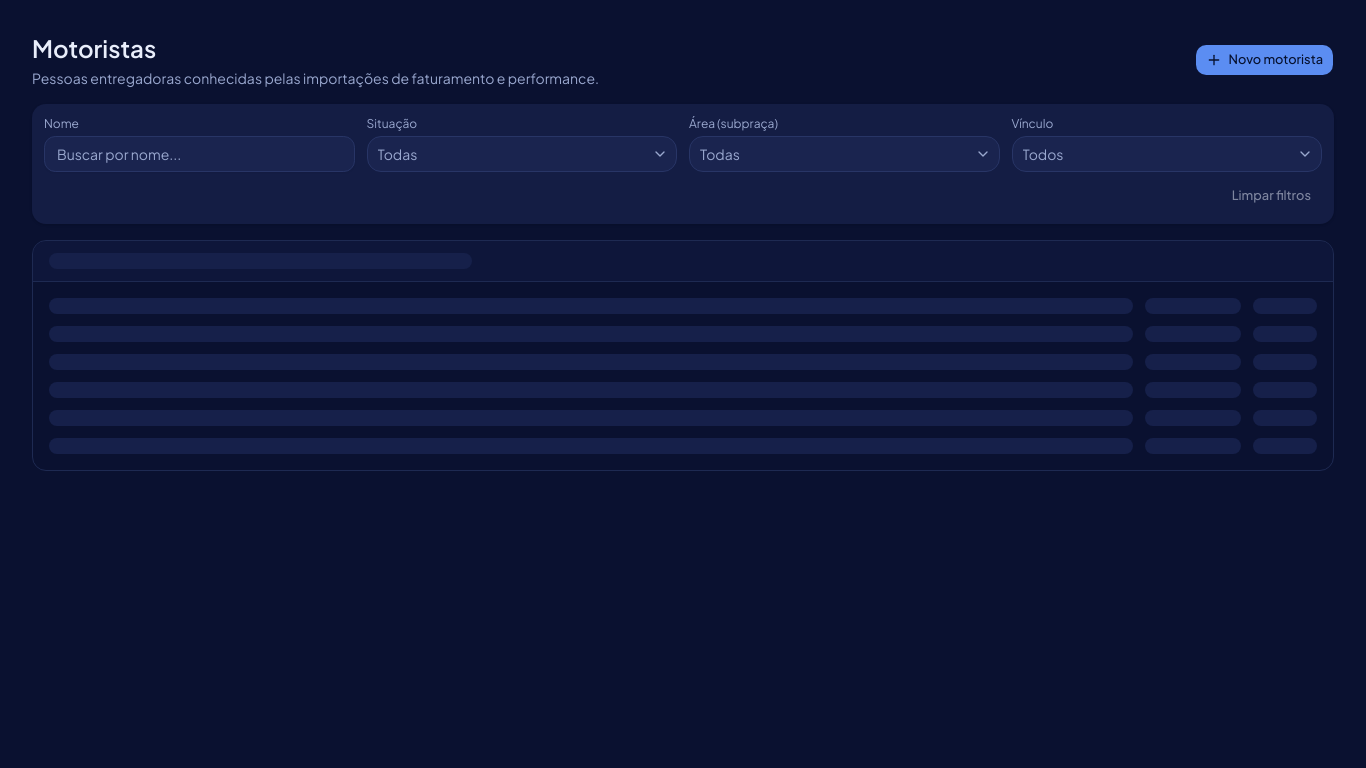
Test: MotoristasPage — CriarMotoristaDialog (FASE 4, task 4.3) › uuid em formato inválido exibe erro claro e bloqueia o submit no cliente
Click the button "Novo motorista": (1265, 60) [1196,44,1334,76]
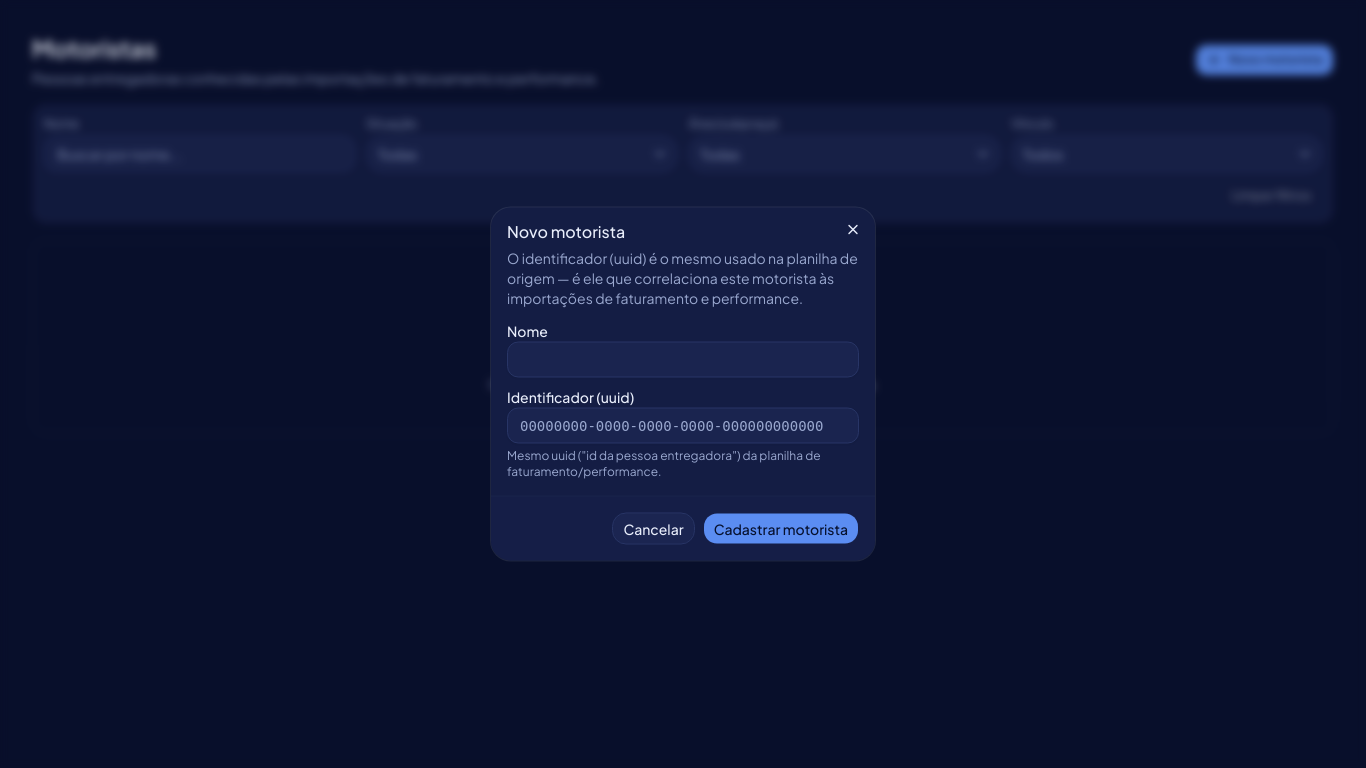
Expected: the heading "Novo motorista" is shown, [507,220,625,242]
In the field labelled "Nome": (683, 360) [507,342,859,378], type "Fulano da Silva"
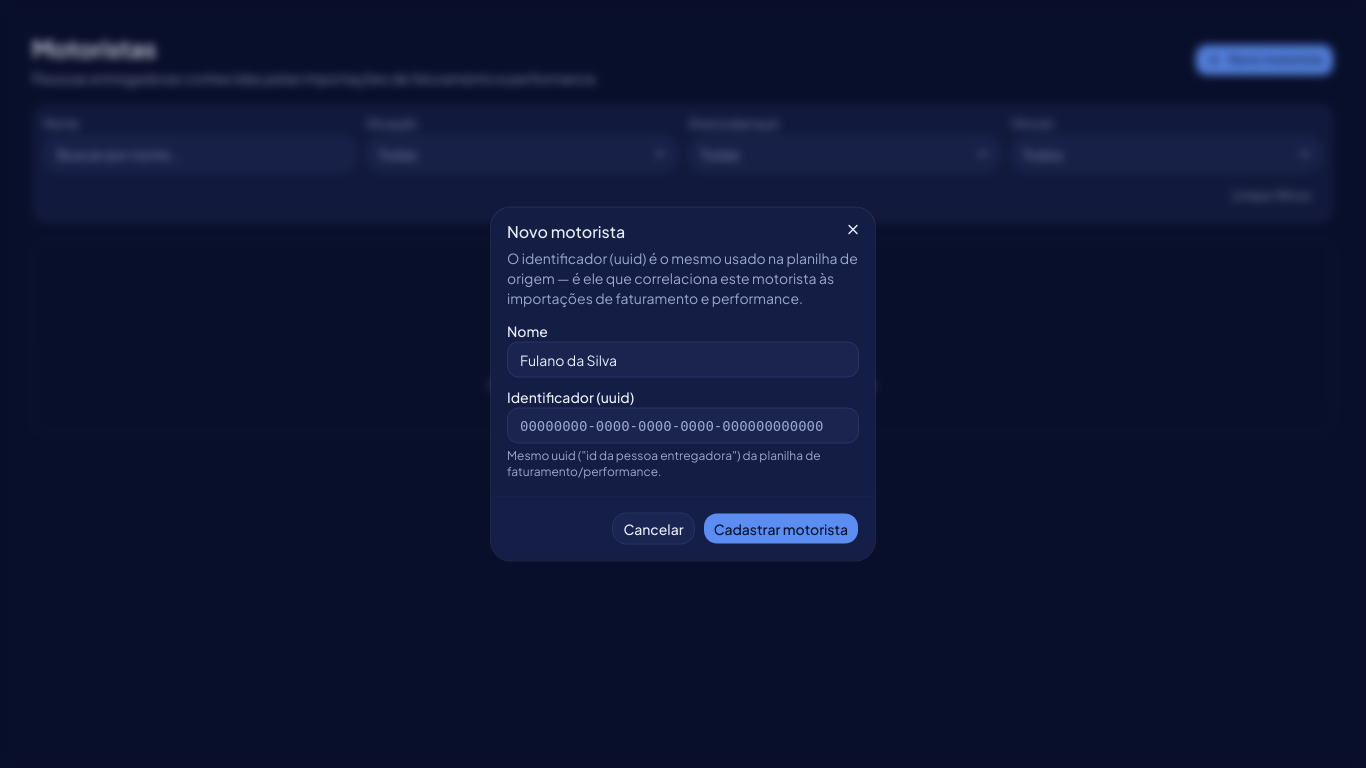
In the field labelled "Identificador (uuid)": (683, 426) [507,408,859,444], type "nao-e-um-uuid"
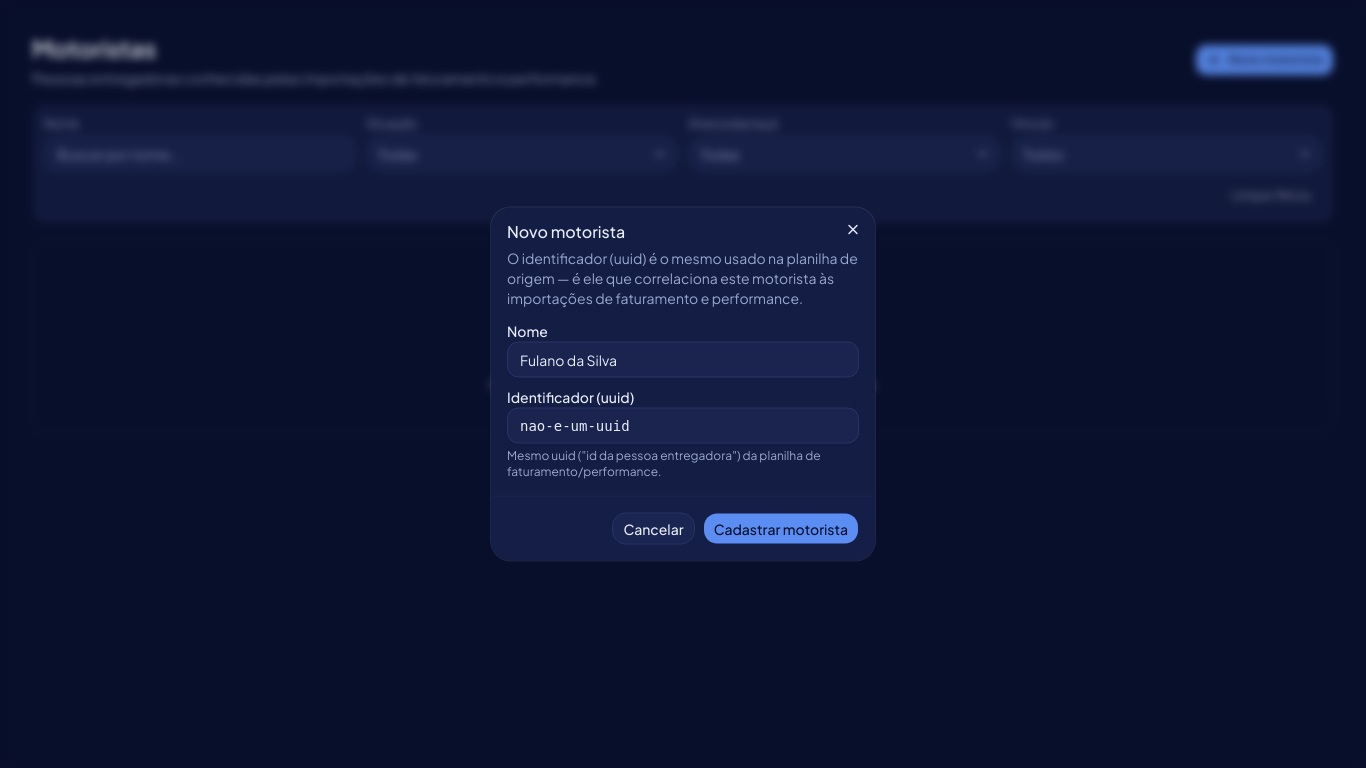
Click the button "Cadastrar motorista": (781, 528) [703,512,859,544]
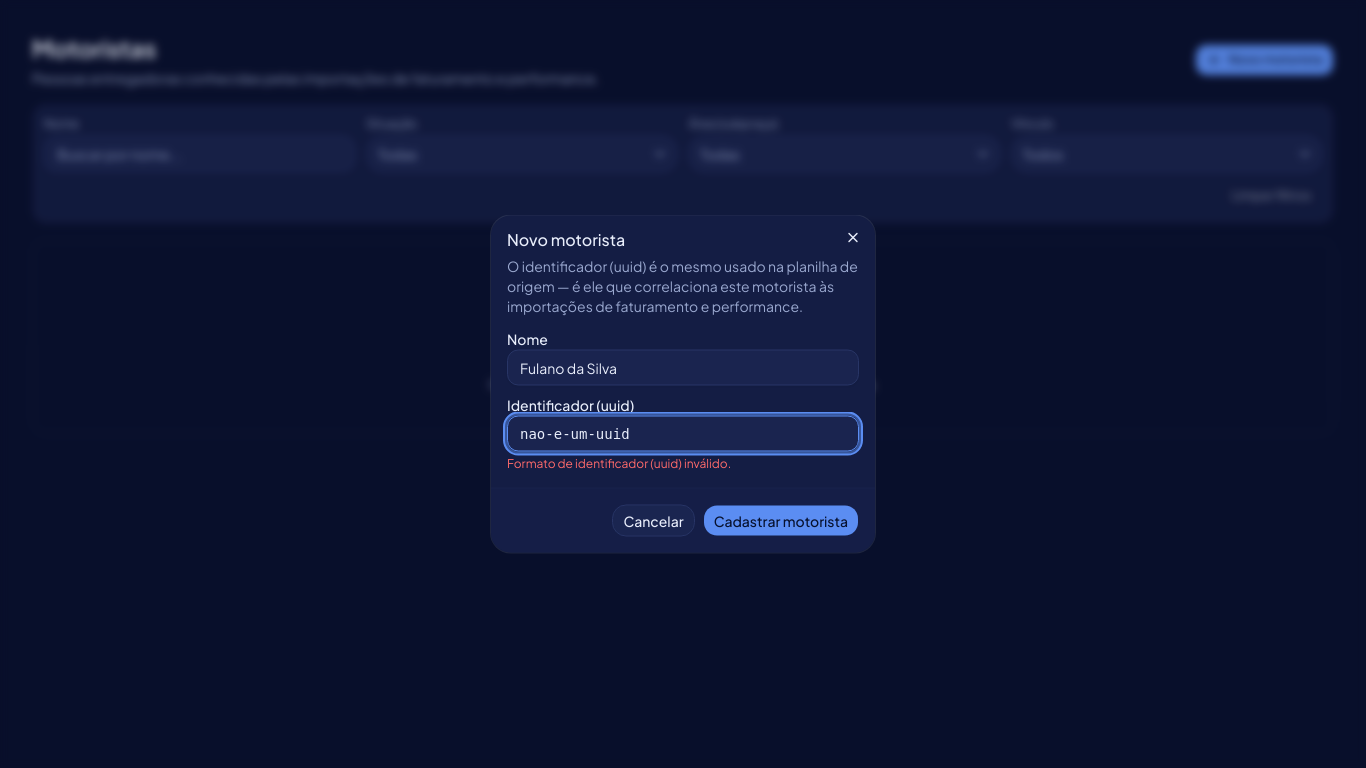
Expected: the text "Formato de identificador (uuid) inválido." is shown, [507,456,731,470]
